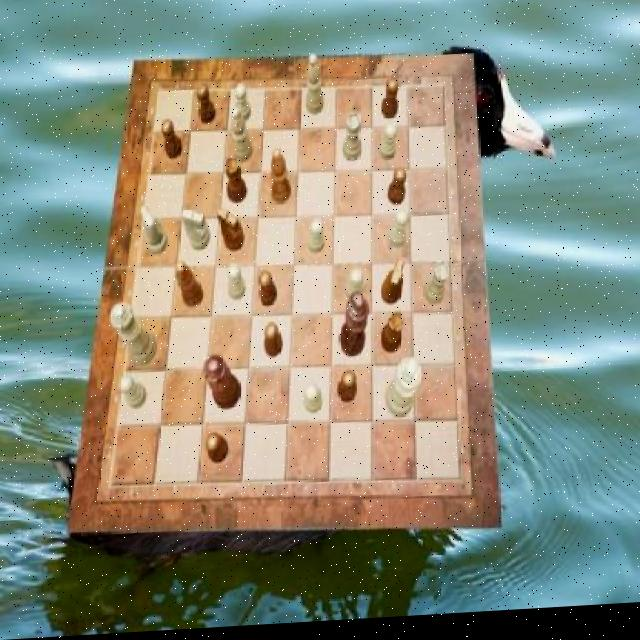bishop: (177, 263, 205, 311), (271, 151, 291, 208)
black-bishop: (338, 295, 368, 362)
black-king: (217, 208, 244, 255), (382, 262, 406, 309)
black-knight: (163, 122, 183, 163), (197, 87, 216, 128), (206, 434, 229, 466), (388, 172, 407, 210), (264, 326, 284, 361), (258, 275, 278, 310), (382, 84, 399, 125), (337, 374, 357, 408)
black-pawn: (203, 357, 241, 415)
black-queen: (225, 159, 248, 207), (382, 315, 404, 358)
black-rook: (231, 110, 254, 165), (306, 59, 324, 120)
white-bishop: (386, 362, 423, 424)
white-king: (140, 206, 168, 256), (183, 208, 211, 252)
white-knight: (120, 375, 148, 411), (388, 213, 408, 252), (235, 85, 252, 126), (346, 272, 364, 307), (228, 267, 245, 304), (379, 128, 396, 164), (308, 223, 325, 258), (303, 387, 322, 418)
white-pawn: (110, 302, 158, 370)
white-queen: (424, 265, 450, 310), (343, 117, 361, 165)
